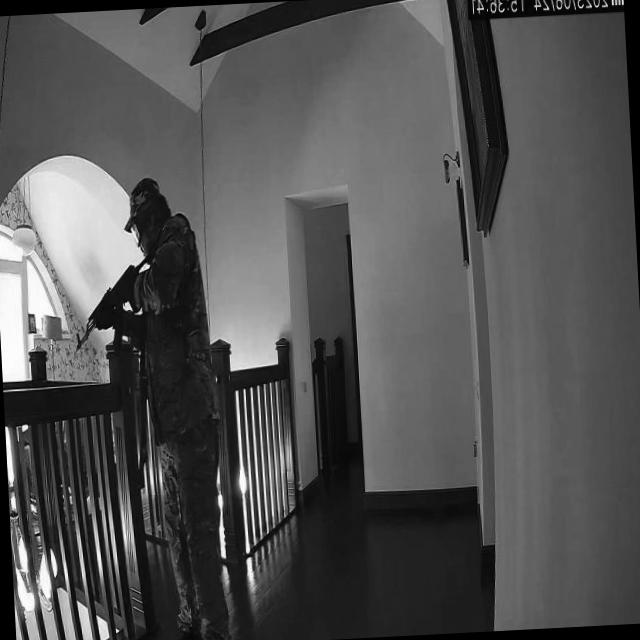gun: (69, 246, 158, 354)
person with a gun: (61, 175, 228, 640)
